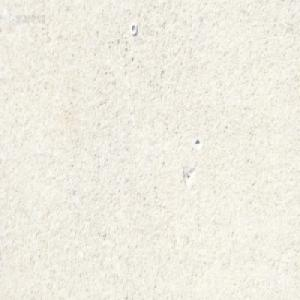Washer: (130, 21, 138, 35)
